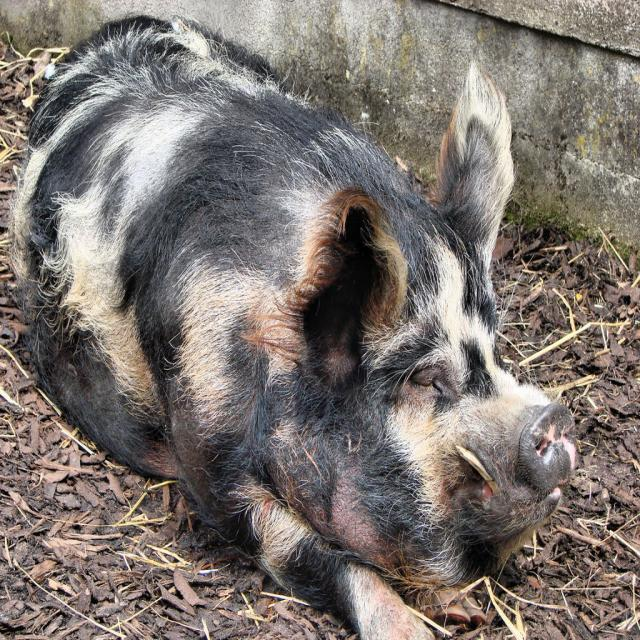Pig: (4, 9, 580, 640)
